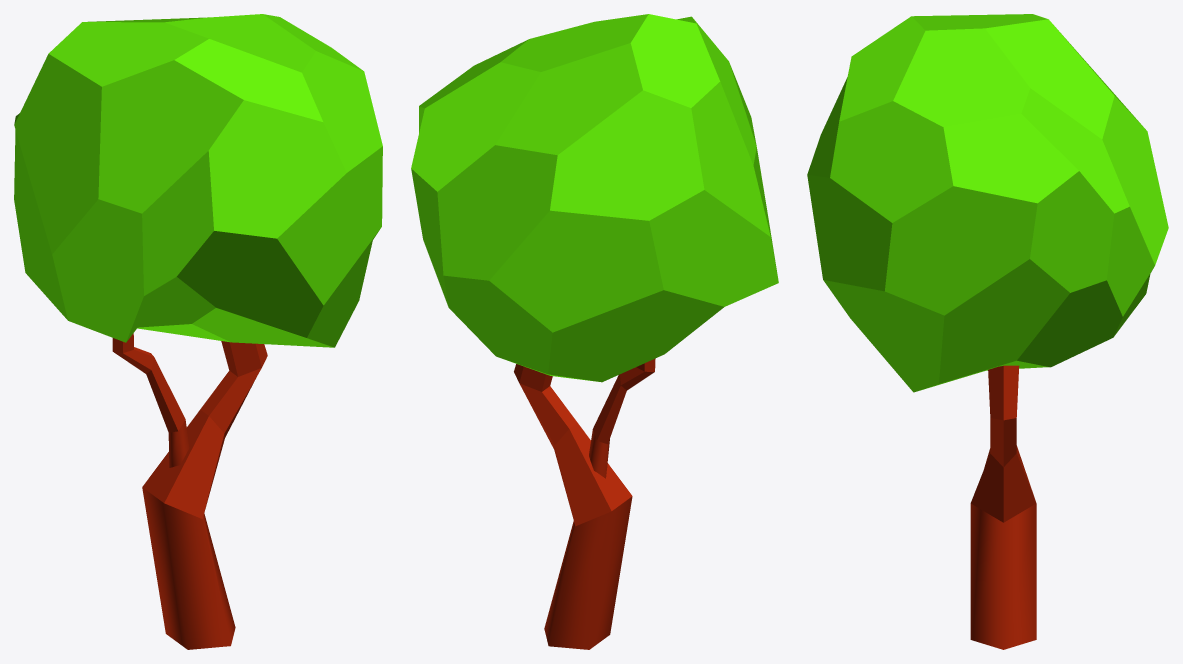
The model's file is arvoremodelo1.FBX.
3 views of the same model, side by side, from view 1: azimuth 30°, elevation 25°; view 2: azimuth 150°, elevation 25°; view 3: azimuth 270°, elevation 25° (orthographic). The views are drawn at different scales.
Visible parts, largest first — view 1: Hedra001, Cylinder002, Cylinder003; view 2: Hedra001, Cylinder002, Cylinder003; view 3: Hedra001, Cylinder002.
Part boxes in pixels (bbox=[...]): Hedra001: bbox=[14, 14, 382, 347]; Cylinder002: bbox=[142, 341, 267, 649]; Cylinder003: bbox=[112, 333, 189, 467]; Hedra001: bbox=[411, 14, 778, 382]; Cylinder002: bbox=[514, 364, 632, 649]; Cylinder003: bbox=[589, 358, 655, 478]; Hedra001: bbox=[807, 14, 1168, 392]; Cylinder002: bbox=[970, 365, 1036, 649].
Size of the model in its own units: 25.9 by 47.79 by 26.61.
